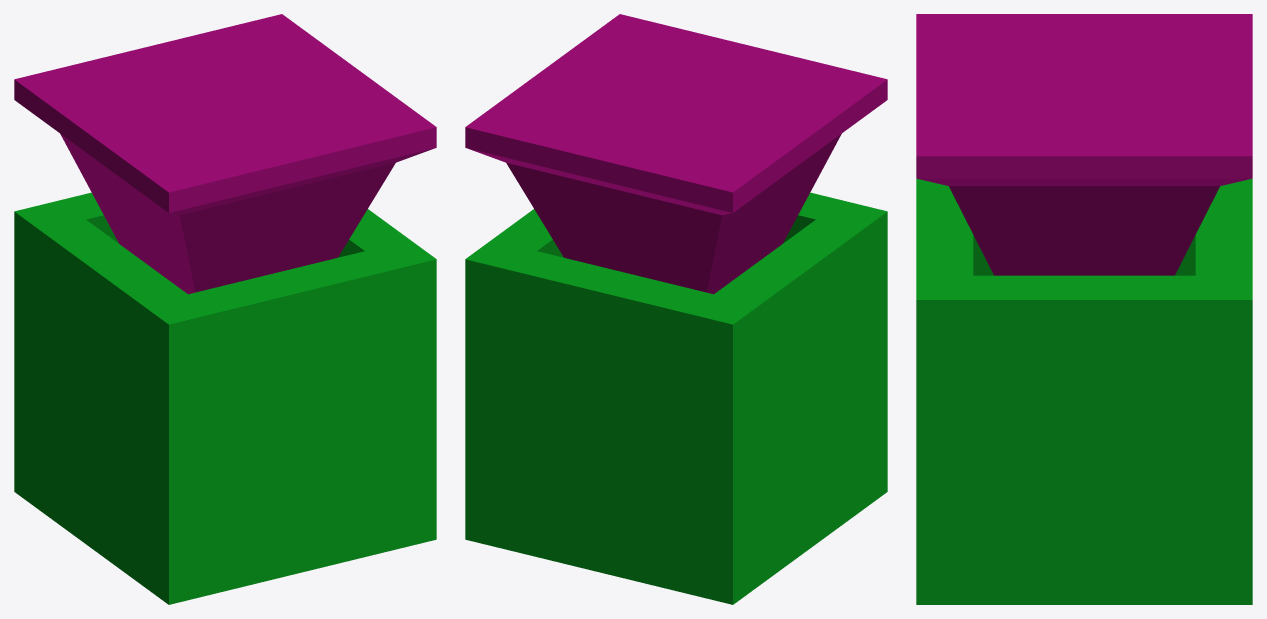
File: AnimatedBox_000158.obj
3 views of the same model, side by side, from view 1: azimuth 30°, elevation 25°; view 2: azimuth 150°, elevation 25°; view 3: azimuth 270°, elevation 25° (orthographic). The views are drawn at different scales.
Visible parts, largest first — view 1: Cube, Cube.001; view 2: Cube, Cube.001; view 3: Cube, Cube.001.
Boxes of the visible parts, x1,y1,x2,y2 form: Cube: [14, 192, 436, 604]; Cube.001: [14, 14, 436, 294]; Cube: [465, 192, 887, 604]; Cube.001: [465, 14, 887, 294]; Cube: [916, 178, 1252, 604]; Cube.001: [916, 14, 1252, 275].
Bounding box in the file's own units: 2 × 2.94 × 2.
